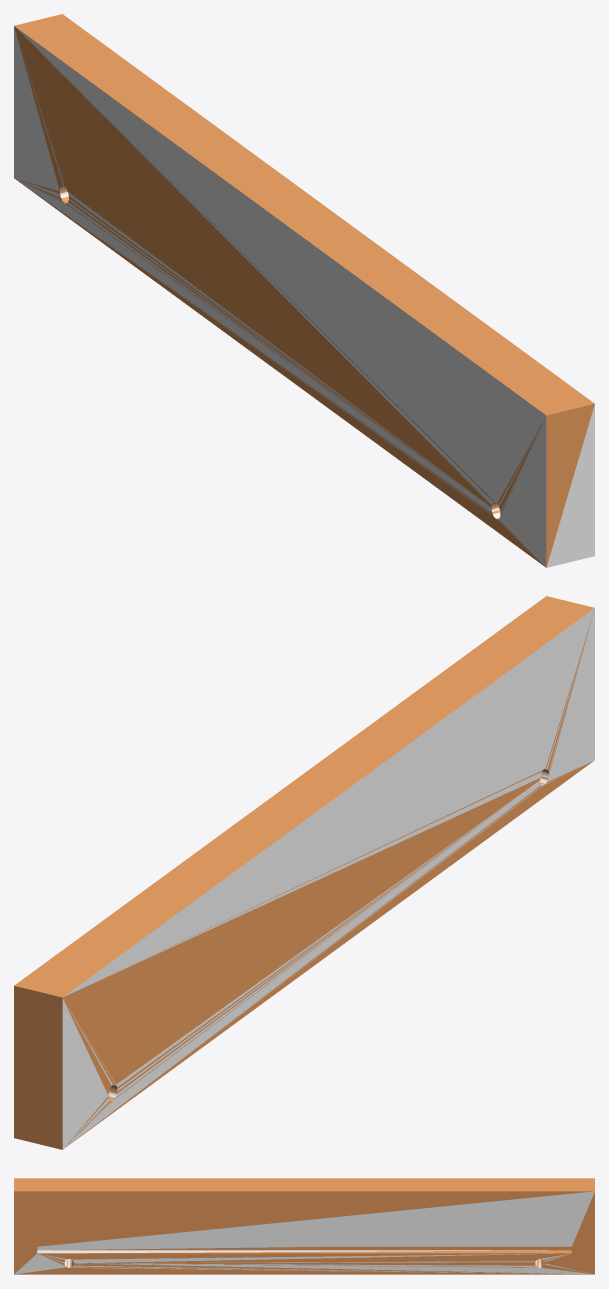
File: original-40-collision.obj
3 renders of one model, top to bottom at view 1: azimuth 30°, elevation 25°; view 2: azimuth 150°, elevation 25°; view 3: azimuth 270°, elevation 25°, orthographic. The views are drawn at different scales.
Visible parts, largest first — view 1: A_-_Tray_Length_Right1/A_-_Tray_Length_Right/mesh12/mesh12-geom; view 2: A_-_Tray_Length_Right1/A_-_Tray_Length_Right/mesh12/mesh12-geom; view 3: A_-_Tray_Length_Right1/A_-_Tray_Length_Right/mesh12/mesh12-geom.
Boxes of the visible parts, box(x1,y1,x2,y2) form: A_-_Tray_Length_Right1/A_-_Tray_Length_Right/mesh12/mesh12-geom: box(14, 14, 594, 567); A_-_Tray_Length_Right1/A_-_Tray_Length_Right/mesh12/mesh12-geom: box(14, 596, 594, 1149); A_-_Tray_Length_Right1/A_-_Tray_Length_Right/mesh12/mesh12-geom: box(14, 1178, 594, 1274).
Bounding box in the file's own units: 0.0602 × 0.1806 × 1.14.
